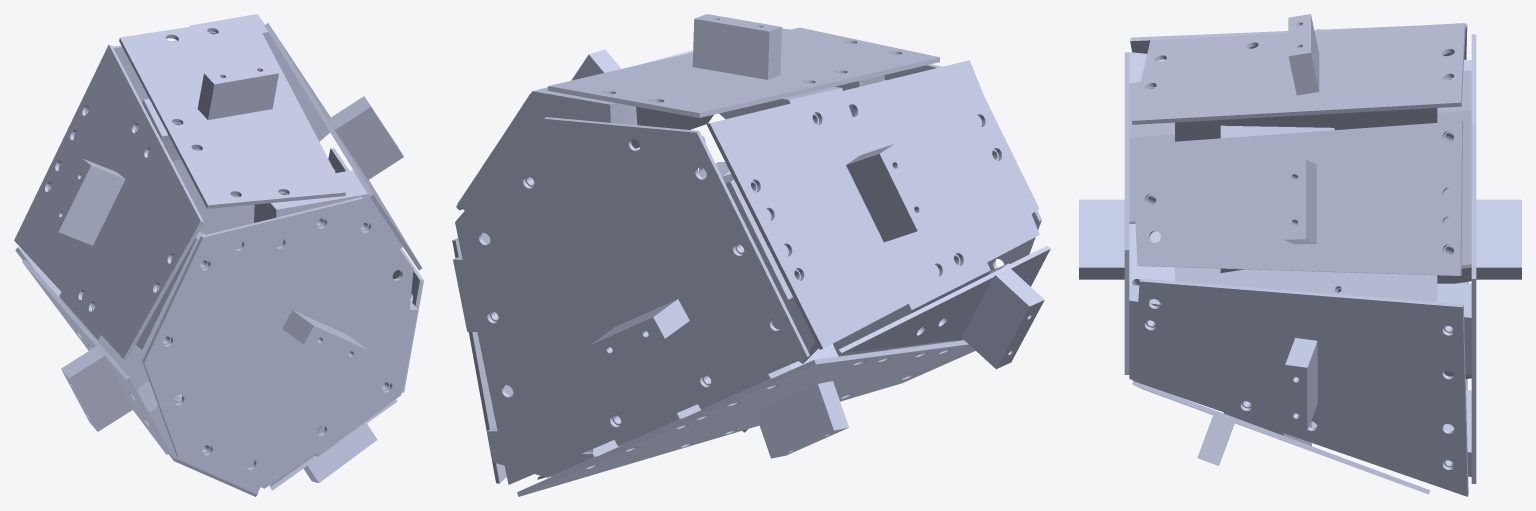
The picture shows the model from 3 angles, left to right: view 1: azimuth 30°, elevation 25°; view 2: azimuth 150°, elevation 25°; view 3: azimuth 270°, elevation 25°; orthographic projection. The views are drawn at different scales.
Visible parts, largest first — view 1: Cut-Extrude2, Cut-Extrude8, Cut-Extrude3 (×4), Boss-Extrude1 (×6), M5 Tapped Hole1 (×2), M5 Tapped Hole1[2], Cut-Extrude5, Cut-Extrude9, M5 Tapped Hole1[4], M5 Tapped Hole1[1], Cut-Extrude4 (×2), M5 Tapped Hole1[3]; view 2: Cut-Extrude3 (×4), Cut-Extrude8, Boss-Extrude1 (×6), Cut-Extrude4, M5 Tapped Hole1 (×5), Cut-Extrude5, M5 Tapped Hole1[1] (×2), M5 Tapped Hole1[2] (×2), Cut-Extrude9, Cut-Extrude2, M5 Tapped Hole1[3]; view 3: Cut-Extrude3 (×3), Cut-Extrude9, Boss-Extrude1 (×6), Cut-Extrude4 (×2), M5 Tapped Hole1 (×4), Cut-Extrude8, Cut-Extrude2, M5 Tapped Hole1[2], M5 Tapped Hole1[4], M5 Tapped Hole1[3].
Boxes of the visible parts, box(x1,y1,x2,y2) form: Cut-Extrude2: box(142, 197, 413, 488); Cut-Extrude8: box(14, 44, 203, 360); Cut-Extrude3 (×4): box(112, 17, 423, 392); Boss-Extrude1 (×6): box(50, 62, 403, 482); M5 Tapped Hole1 (×2): box(59, 14, 329, 389); M5 Tapped Hole1[2]: box(254, 170, 402, 248); Cut-Extrude5: box(22, 259, 169, 454); Cut-Extrude9: box(264, 23, 422, 270); M5 Tapped Hole1[4]: box(136, 381, 260, 494); M5 Tapped Hole1[1]: box(136, 232, 208, 351); Cut-Extrude4 (×2): box(15, 247, 397, 496); M5 Tapped Hole1[3]: box(314, 301, 417, 456); Cut-Extrude3 (×4): box(452, 27, 939, 484); Cut-Extrude8: box(706, 60, 1039, 349); Boss-Extrude1 (×6): box(571, 14, 1044, 458); Cut-Extrude4: box(517, 340, 975, 496); M5 Tapped Hole1 (×5): box(453, 87, 990, 477); Cut-Extrude5: box(839, 245, 1050, 352); M5 Tapped Hole1[1] (×2): box(612, 98, 1039, 446); M5 Tapped Hole1[2] (×2): box(702, 28, 884, 406); Cut-Extrude9: box(456, 50, 713, 210); Cut-Extrude2: box(787, 29, 1041, 270); M5 Tapped Hole1[3]: box(698, 162, 818, 363); Cut-Extrude3 (×3): box(1132, 23, 1476, 496); Cut-Extrude9: box(1132, 121, 1463, 275); Boss-Extrude1 (×6): box(1079, 14, 1521, 465); Cut-Extrude4 (×2): box(1132, 267, 1468, 494); M5 Tapped Hole1 (×4): box(1220, 70, 1471, 476); Cut-Extrude8: box(1130, 23, 1467, 141); Cut-Extrude2: box(1124, 52, 1129, 374); M5 Tapped Hole1[2]: box(1129, 81, 1174, 223); M5 Tapped Hole1[4]: box(1129, 224, 1174, 285); M5 Tapped Hole1[3]: box(1129, 285, 1160, 380).
Size of the model in its own units: 8.23 by 7.96 by 7.64.
